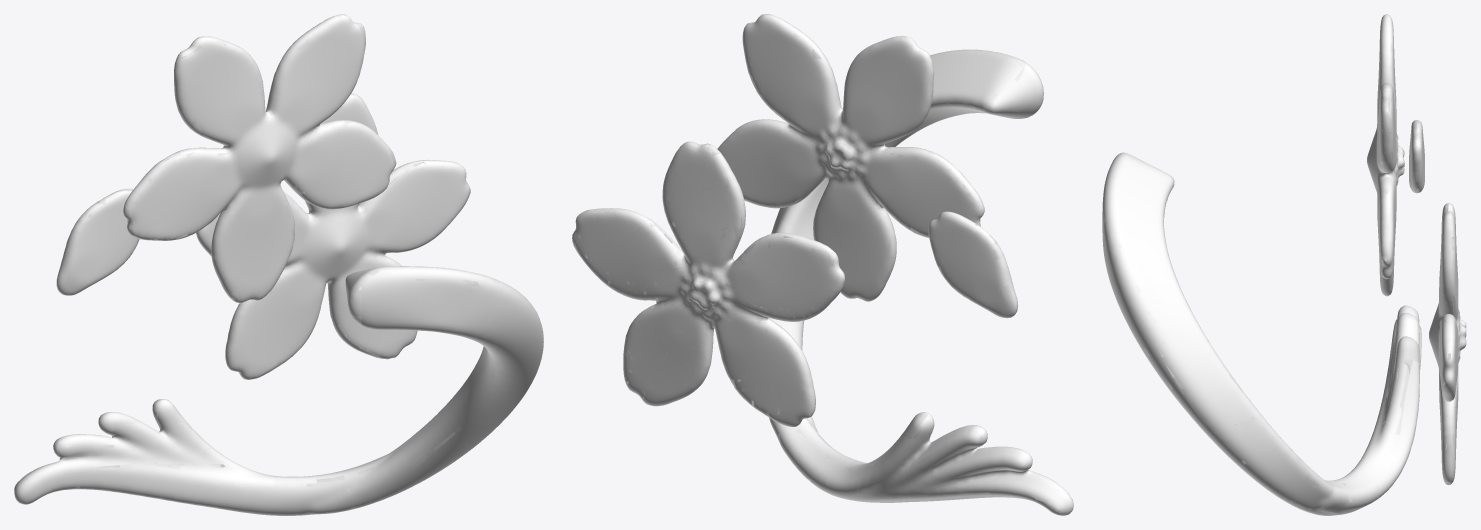
File: left-transformed.glb
3 views of the same model, side by side, from view 1: azimuth 30°, elevation 25°; view 2: azimuth 150°, elevation 25°; view 3: azimuth 270°, elevation 25° (orthographic). The views are drawn at different scales.
Visible parts, largest first — view 1: Left Side; view 2: Left Side; view 3: Left Side.
Boxes of the visible parts, x1,y1,x2,y2 form: Left Side: [14, 14, 543, 515]; Left Side: [572, 14, 1073, 515]; Left Side: [1102, 14, 1466, 515].
Bounding box in the file's own units: 113 × 110 × 81.
Materials: 1 (1 with a texture image).
